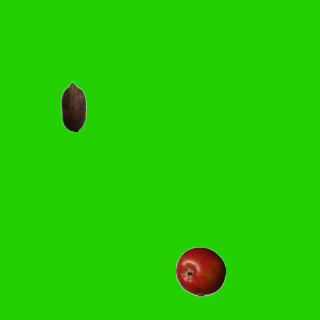Apple Braeburn: (175, 246, 225, 296)
Nut Pecan: (48, 81, 98, 131)
